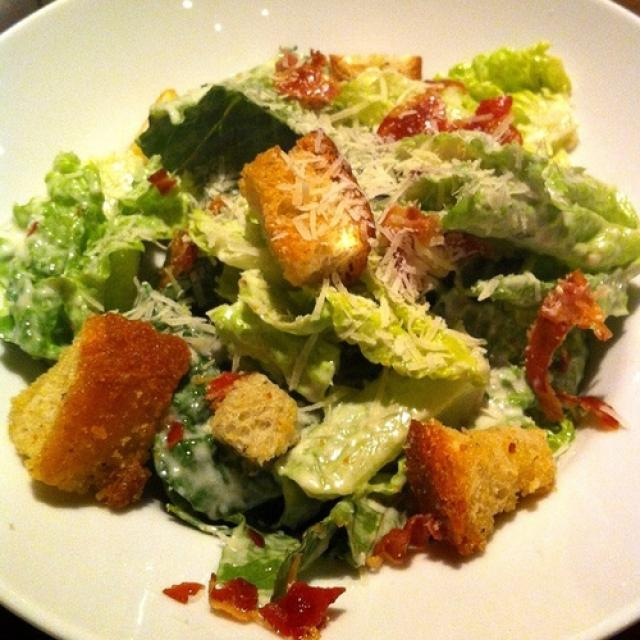蔬菜料理: (18, 28, 619, 613)
